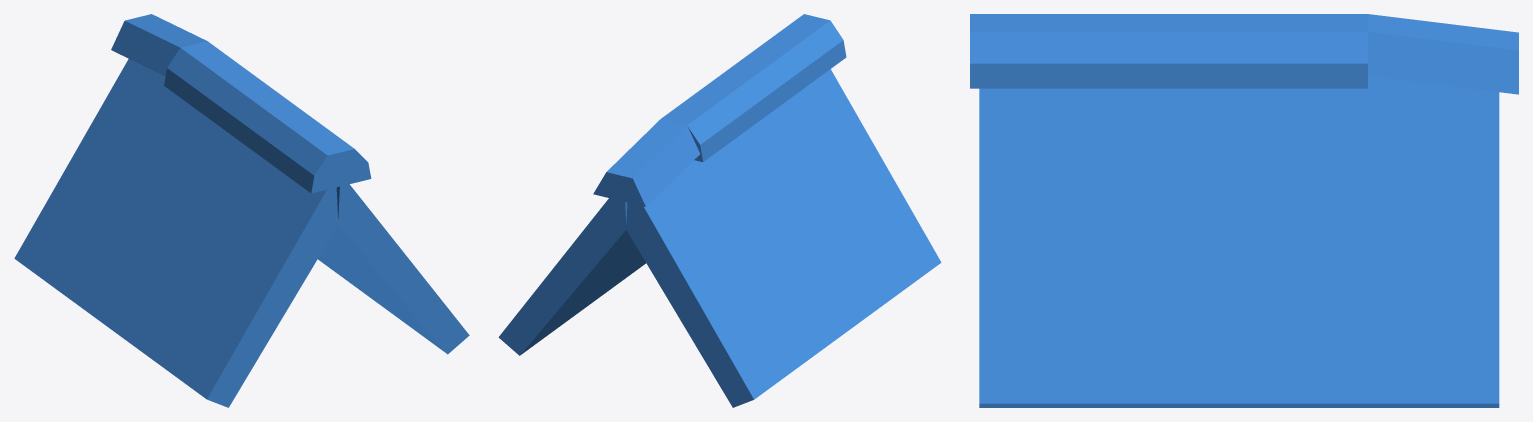
The model's file is Collision_Roof_2x4_FlatTile.fbx.
3 views of the same model, side by side, from view 1: azimuth 30°, elevation 25°; view 2: azimuth 150°, elevation 25°; view 3: azimuth 270°, elevation 25° (orthographic). The views are drawn at different scales.
Visible parts, largest first — view 1: UCX_Roof_2x4_FlatTile_1; view 2: UCX_Roof_2x4_FlatTile_1; view 3: UCX_Roof_2x4_FlatTile_1.
Boxes of the visible parts, x1,y1,x2,y2 form: UCX_Roof_2x4_FlatTile_1: [14, 14, 469, 407]; UCX_Roof_2x4_FlatTile_1: [498, 14, 941, 407]; UCX_Roof_2x4_FlatTile_1: [970, 14, 1518, 407].
Size of the model in its own units: 313 by 263 by 419.
